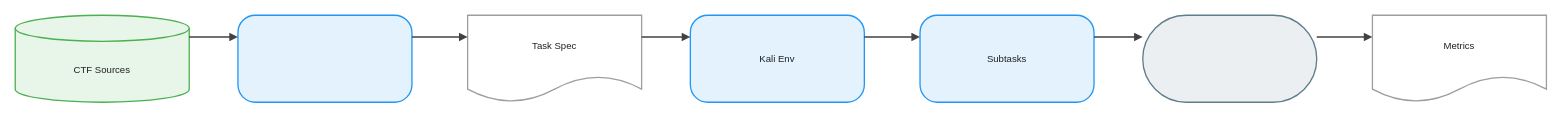
Image size: 1563x118. Some labels were removed from this diagram. The box of each missing label's shape, as (x1, y1, x2, y2) in pixels:
CI Verify: (1142, 14, 1317, 102)
Select 40: (237, 14, 412, 102)
